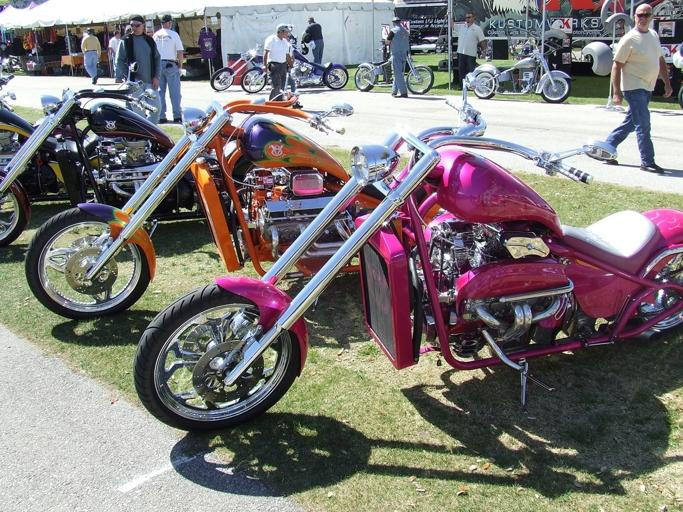non-vehicle: (133, 73, 682, 431), (23, 90, 441, 317), (472, 37, 572, 103), (239, 33, 347, 91), (355, 49, 434, 94), (210, 49, 276, 89)
